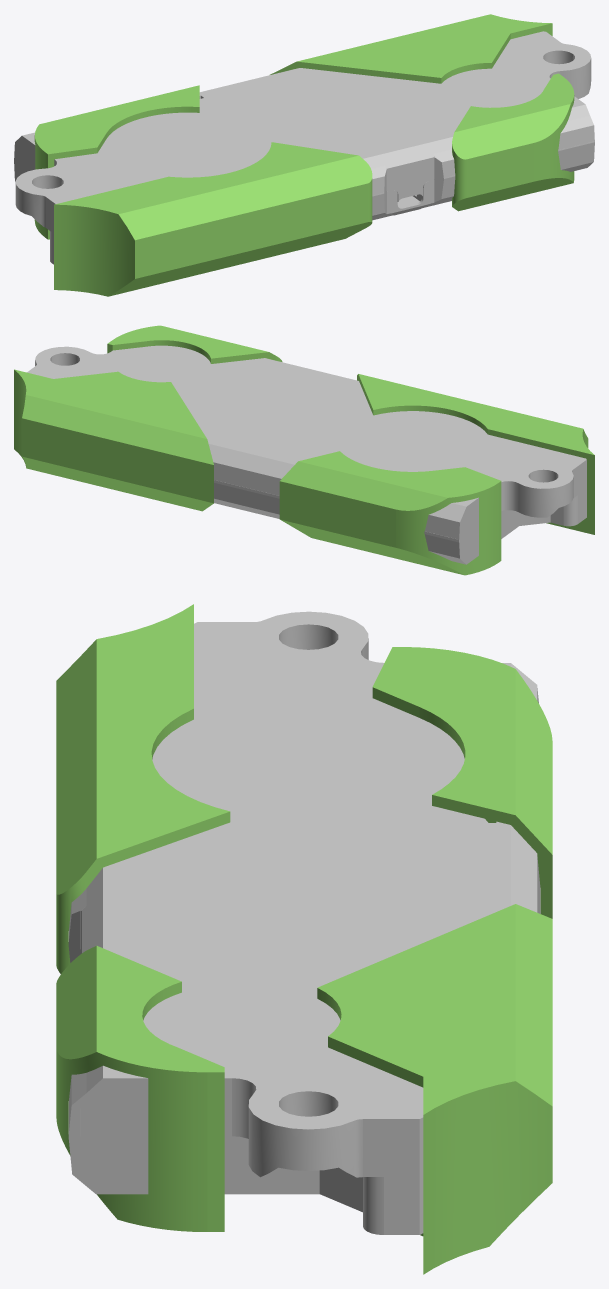
File: V3-Mechanical.glb
3 renders of one model, top to bottom at view 1: azimuth 30°, elevation 25°; view 2: azimuth 150°, elevation 25°; view 3: azimuth 270°, elevation 25°, orthographic. The views are drawn at different scales.
Visible parts, largest first — view 1: Case_oneprint__1_, LoRaPlate2_default_chamfered, KnobPlate2_roundel, GPSPlate2_default_chamfered, HandlePlate2_roundel, Case_oneprint__1___1_; view 2: Case_oneprint__1_, GPSPlate2_default_chamfered, HandlePlate2_roundel, LoRaPlate2_default_chamfered, Case_oneprint__1___1_, KnobPlate2_roundel; view 3: Case_oneprint__1_, GPSPlate2_default_chamfered, LoRaPlate2_default_chamfered, KnobPlate2_roundel, HandlePlate2_roundel, Case_oneprint__1___1_.
Boxes of the visible parts, bbox=[...] form: Case_oneprint__1_: bbox=[14, 31, 591, 233]; LoRaPlate2_default_chamfered: bbox=[54, 142, 372, 296]; KnobPlate2_roundel: bbox=[452, 73, 574, 211]; GPSPlate2_default_chamfered: bbox=[270, 14, 552, 83]; HandlePlate2_roundel: bbox=[34, 85, 199, 239]; Case_oneprint__1___1_: bbox=[14, 116, 594, 264]; Case_oneprint__1_: bbox=[27, 345, 586, 540]; GPSPlate2_default_chamfered: bbox=[14, 369, 213, 511]; HandlePlate2_roundel: bbox=[279, 451, 501, 575]; LoRaPlate2_default_chamfered: bbox=[357, 374, 594, 534]; Case_oneprint__1___1_: bbox=[214, 481, 586, 564]; KnobPlate2_roundel: bbox=[107, 325, 282, 363]; Case_oneprint__1_: bbox=[81, 611, 540, 1177]; GPSPlate2_default_chamfered: bbox=[317, 904, 552, 1274]; LoRaPlate2_default_chamfered: bbox=[56, 604, 230, 973]; KnobPlate2_roundel: bbox=[56, 945, 224, 1231]; HandlePlate2_roundel: bbox=[372, 647, 552, 918]; Case_oneprint__1___1_: bbox=[68, 888, 423, 1234].
Size of the model in its own units: 203 by 29.2 by 82.17.
